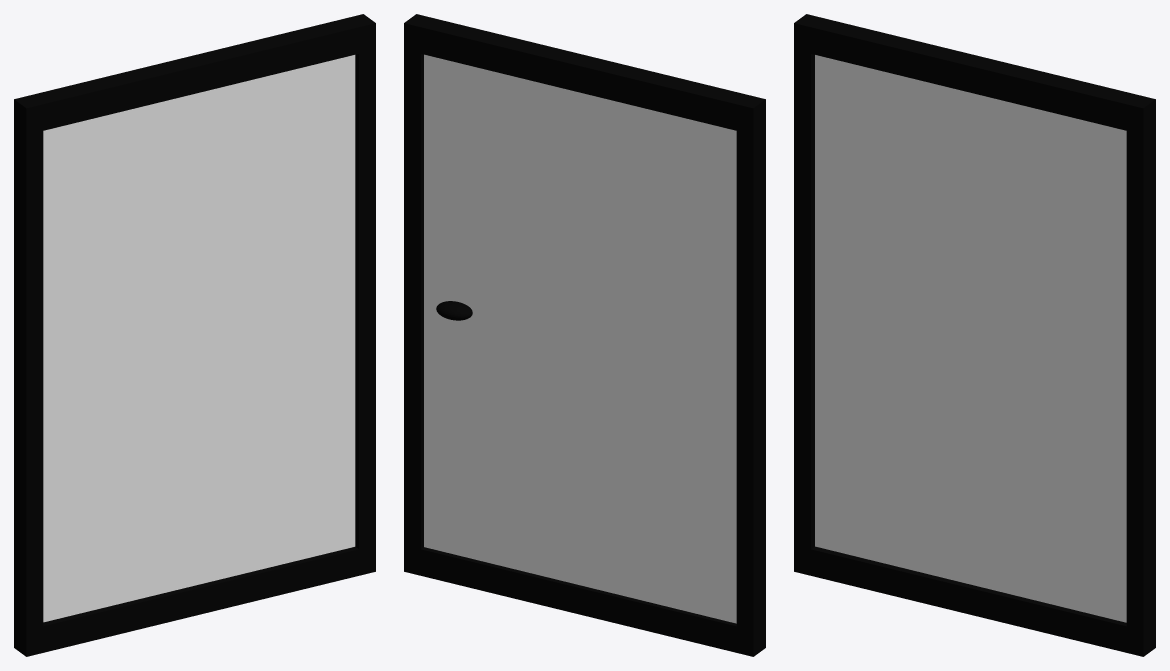
The model's file is Door.obj.
The picture shows the model from 3 angles, left to right: view 1: azimuth 30°, elevation 25°; view 2: azimuth 150°, elevation 25°; view 3: azimuth 330°, elevation 25°; orthographic projection.
Visible parts, largest first — view 1: 立方体.001, 立方体; view 2: 立方体.001, 立方体, 球; view 3: 立方体.001, 立方体.
Part boxes in pixels (box(x1,y1,x2,y2)): 立方体.001: box(43, 55, 355, 622); 立方体: box(14, 14, 375, 656); 立方体.001: box(424, 54, 736, 623); 立方体: box(404, 14, 765, 656); 球: box(436, 301, 472, 320); 立方体.001: box(815, 55, 1126, 622); 立方体: box(794, 14, 1155, 656).
Size of the model in its own units: 0.7646 by 1.15 by 0.0775.
